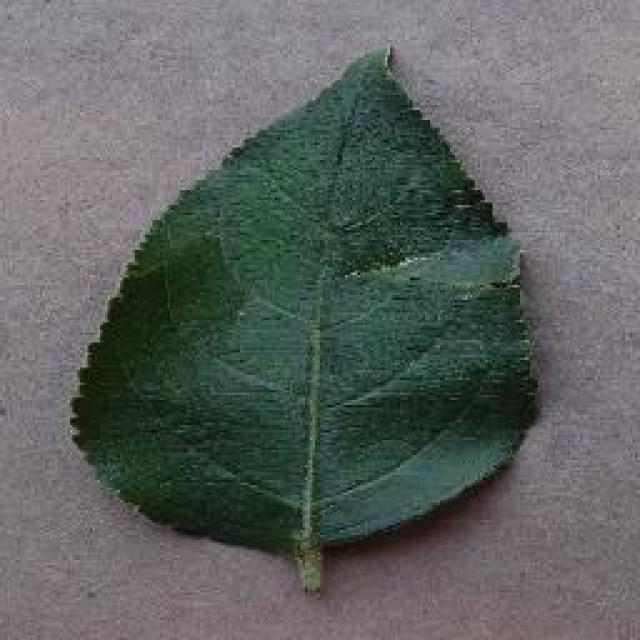apple healthy: (68, 40, 540, 592)
